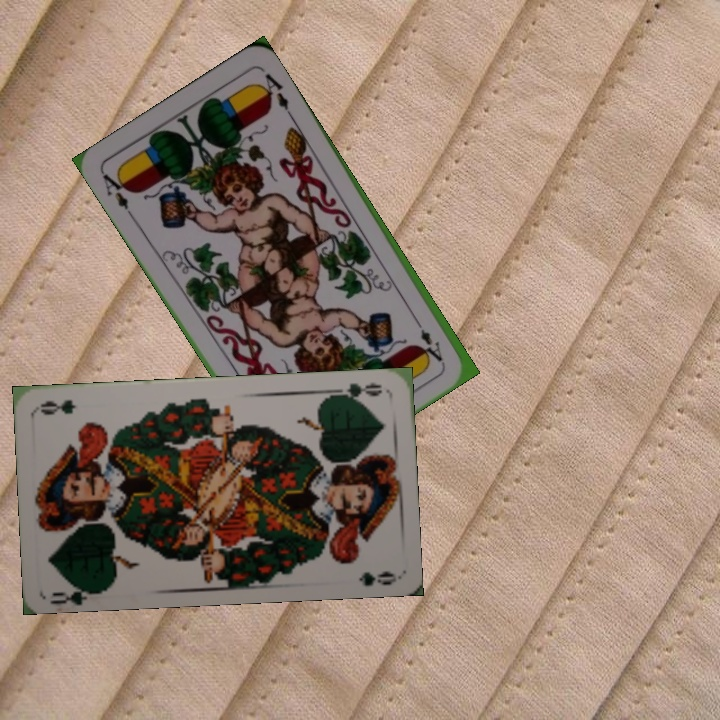EA: (97, 166, 136, 220), (410, 312, 446, 365)
GO: (47, 577, 106, 604), (328, 379, 385, 404)
